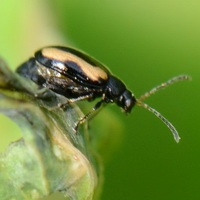insect: (17, 46, 179, 141)
